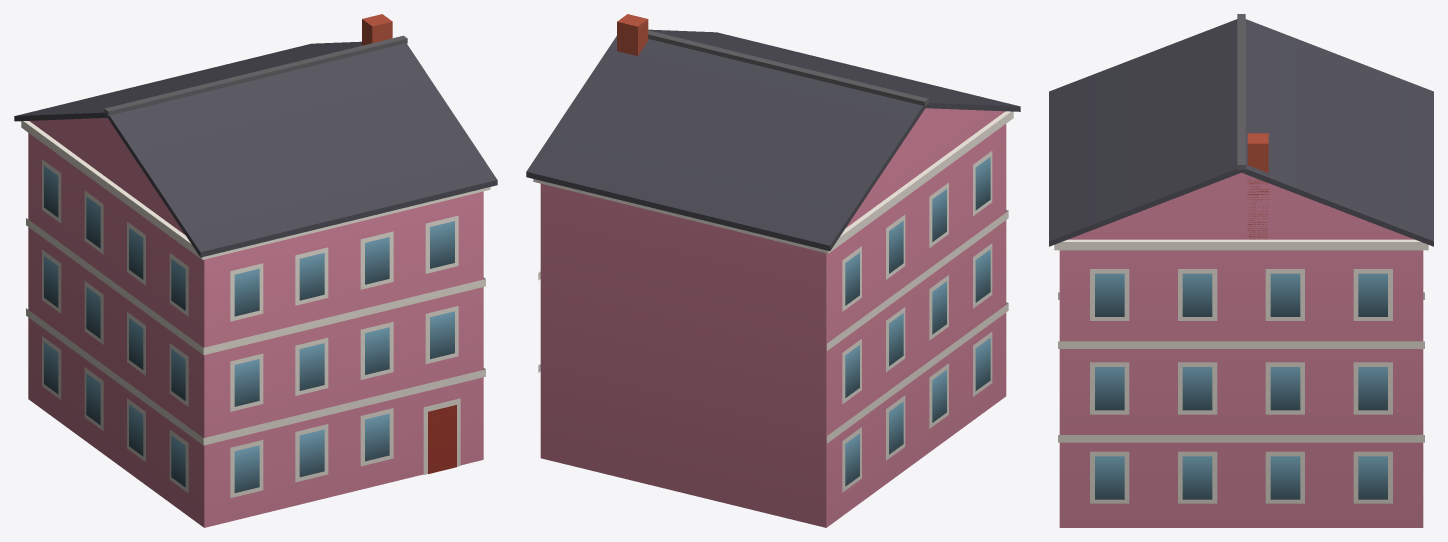
Rendered from beacon_n6_far.glb.
3 views of the same model, side by side, from view 1: azimuth 30°, elevation 25°; view 2: azimuth 150°, elevation 25°; view 3: azimuth 270°, elevation 25° (orthographic). The views are drawn at different scales.
Parts seen in each view (by area): view 1: beacon_n6_far; view 2: beacon_n6_far; view 3: beacon_n6_far.
Part boxes in pixels (<box>): beacon_n6_far: <box>14,14,497,527</box>; beacon_n6_far: <box>526,14,1020,527</box>; beacon_n6_far: <box>1049,14,1433,527</box>.
Size of the model in its own units: 11.8 by 14 by 12.7.
1 material, 1 textured.
